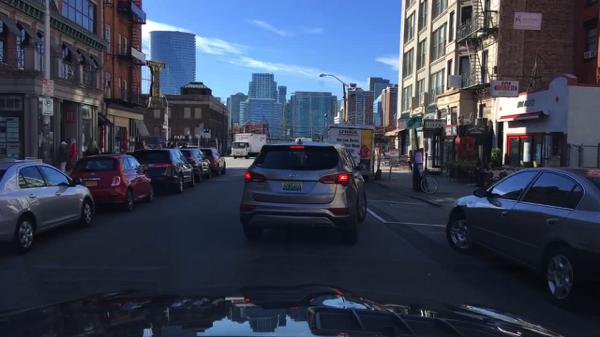bike: (418, 168, 439, 194)
car: (445, 168, 599, 307), (239, 139, 367, 244), (0, 158, 96, 255), (70, 153, 155, 212), (132, 148, 196, 194), (173, 146, 213, 183), (200, 147, 226, 177), (295, 137, 314, 143)
person: (67, 138, 78, 172), (58, 141, 68, 173), (85, 140, 100, 156), (405, 150, 415, 172), (139, 139, 147, 148)
traffic sign: (42, 98, 54, 116), (42, 79, 53, 97), (203, 128, 211, 139), (44, 118, 50, 125), (44, 127, 50, 132)
truck: (327, 124, 375, 183), (231, 133, 267, 160)
